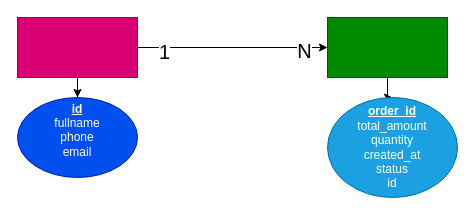
Some shapes in this 475 by 215 pixel diagram are drawn without their labels. Each missing label, with the centre of its shape:
Customers: point (77, 47)
Orders: point (387, 47)
